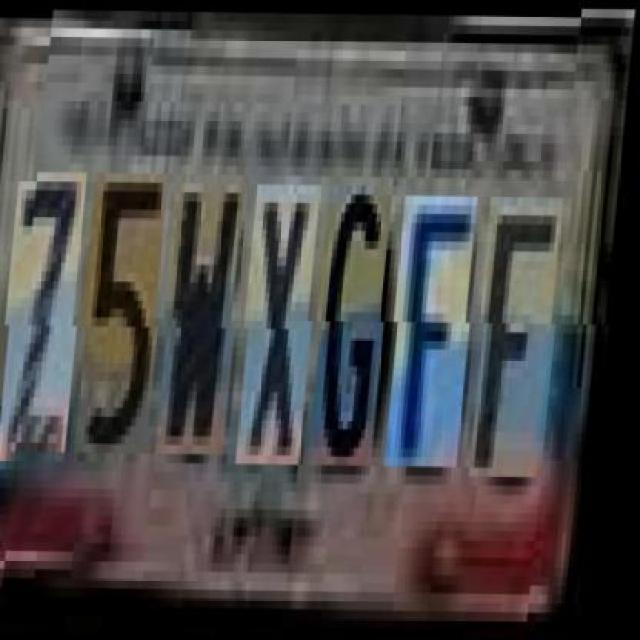5: (83, 173, 175, 453)
f: (478, 195, 572, 476), (393, 194, 485, 466)
g: (317, 185, 401, 464)
w: (164, 174, 253, 454)
x: (245, 184, 329, 464)
z: (6, 172, 96, 452)
